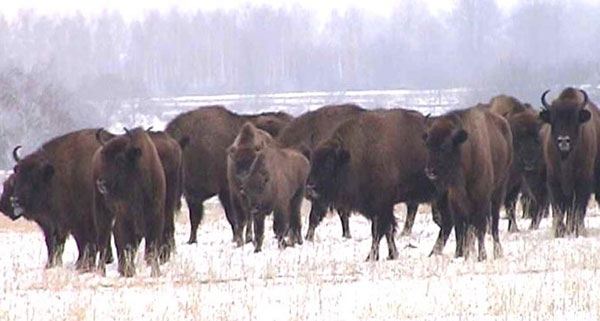zubr: (295, 110, 442, 250), (409, 98, 530, 260), (88, 126, 182, 277), (13, 120, 100, 278), (532, 67, 600, 205)
